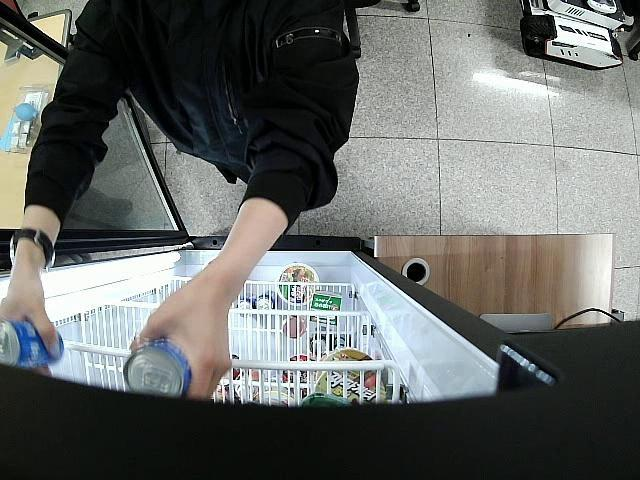15_letsbe: (121, 341, 190, 400), (0, 318, 65, 368)
